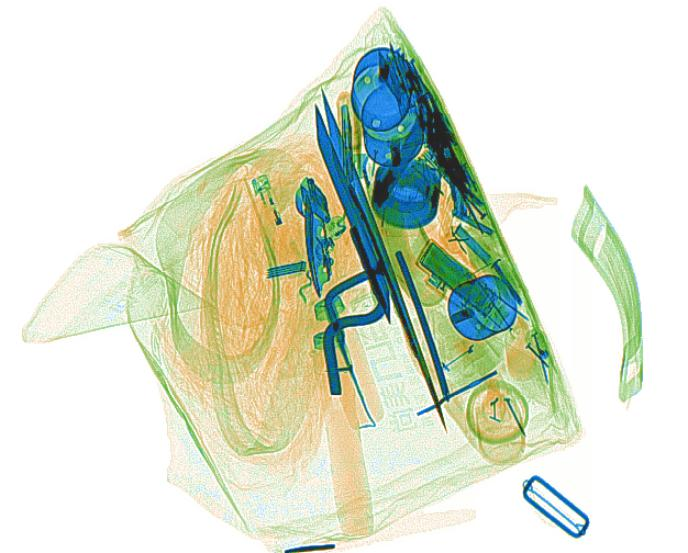battery: (418, 242, 497, 320)
lighter: (247, 172, 305, 281)
